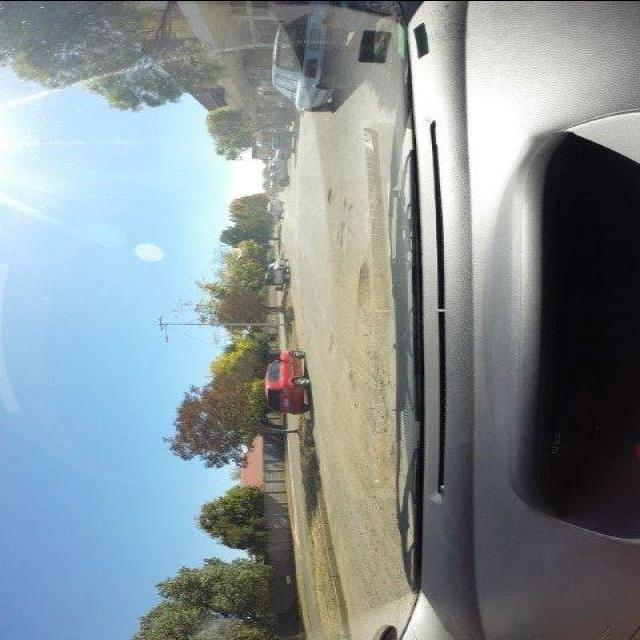jalan retak: (322, 330, 338, 356)
lubang: (352, 258, 374, 314), (335, 191, 358, 215), (334, 221, 353, 249), (342, 366, 359, 392), (322, 184, 338, 207)
